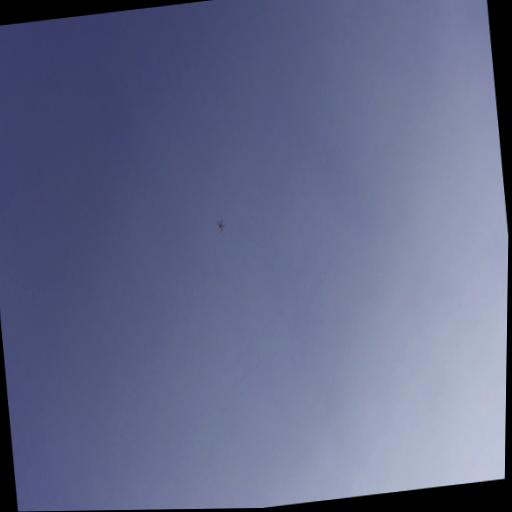drones: (216, 218, 226, 235)
